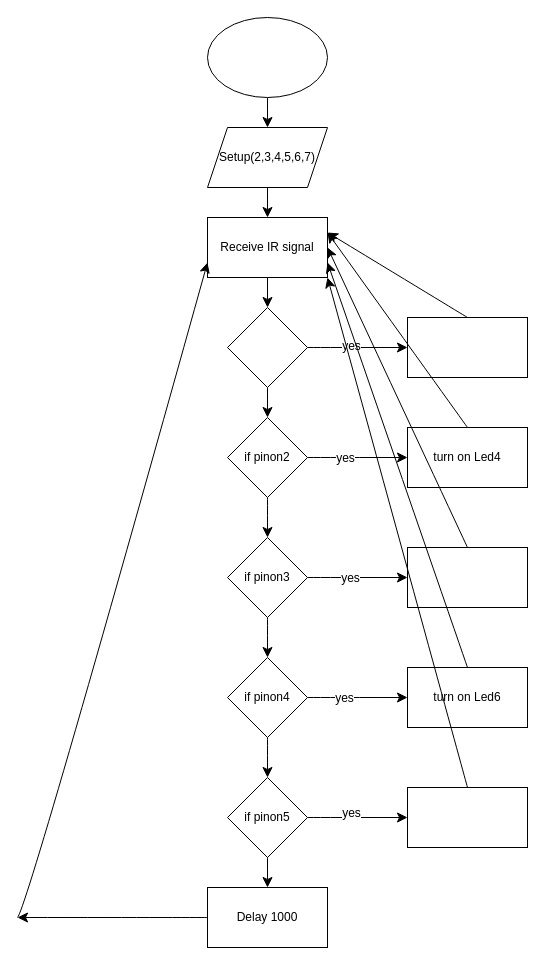
The diagram is 545 pixels wide and 965 high, and some of its shapes have lost their labels. Each missing label, with the box of its shape:
if pinon1: (226, 306, 308, 388)
Start: (206, 16, 328, 98)
turn on Led 5: (406, 546, 528, 608)
turn on Led3: (406, 316, 528, 378)
turn on Led7: (406, 786, 528, 848)
